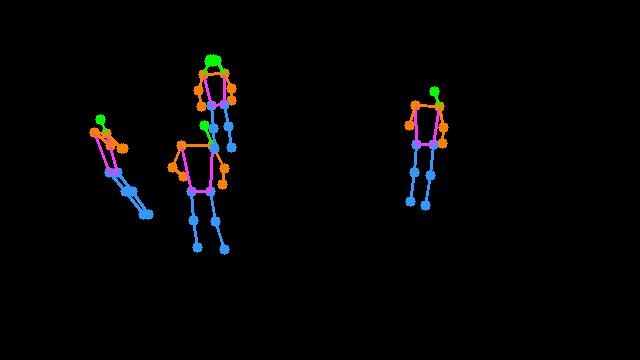normal: (156, 35, 252, 269), (373, 69, 474, 236), (70, 101, 160, 238)
